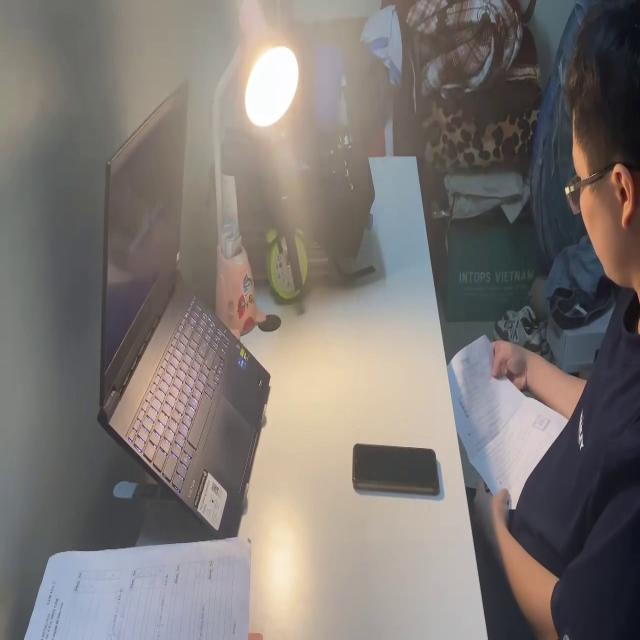book: (16, 530, 256, 640), (446, 324, 570, 516)
laptop: (92, 76, 273, 541)
phone: (350, 437, 441, 499)
student: (466, 0, 640, 640)
